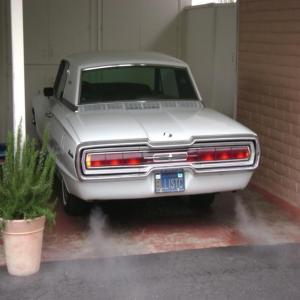Plate: (155, 172, 185, 193)
